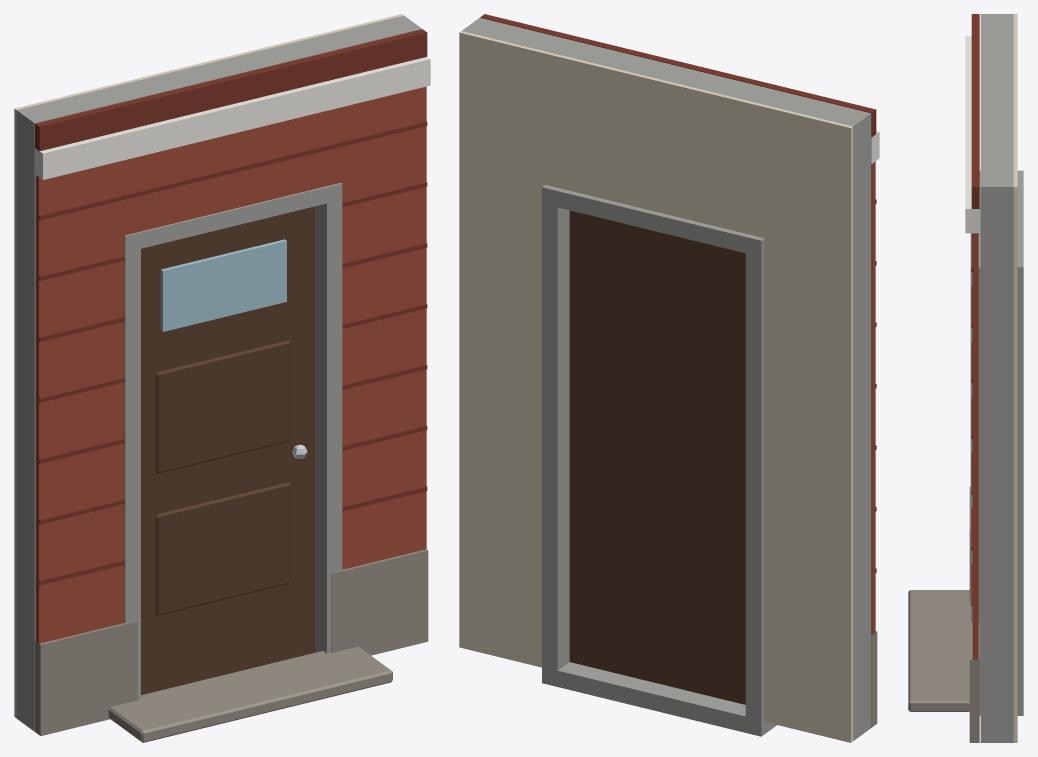
Rendered from Wall_Brick_Door.glb.
3 views of the same model, side by side, from view 1: azimuth 30°, elevation 25°; view 2: azimuth 150°, elevation 25°; view 3: azimuth 270°, elevation 25° (orthographic). The views are drawn at different scales.
Visible parts, largest first — view 1: Wall_Brick_Door; view 2: Wall_Brick_Door; view 3: Wall_Brick_Door.
Part boxes in pixels (x1,y1,x2,y2): Wall_Brick_Door: (14, 14, 430, 742); Wall_Brick_Door: (459, 14, 879, 742); Wall_Brick_Door: (908, 14, 1023, 742).
Size of the model in its own units: 2 by 3.06 by 0.565.
Materials: 1 (1 with a texture image).
